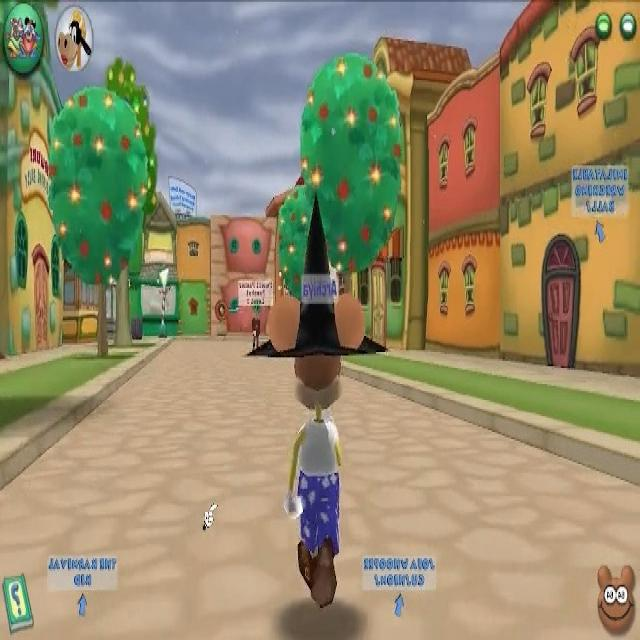pencilpusher: (239, 281, 274, 363)
